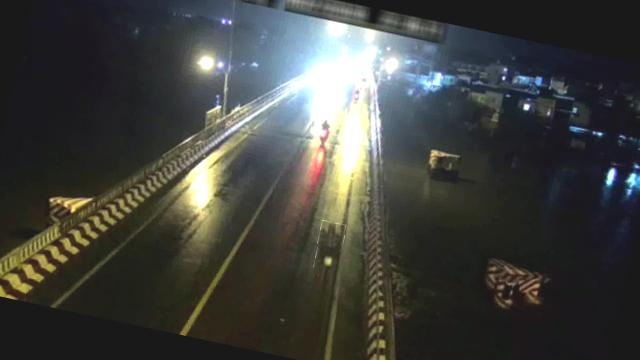Bike: (313, 221, 347, 272), (312, 118, 335, 150)
